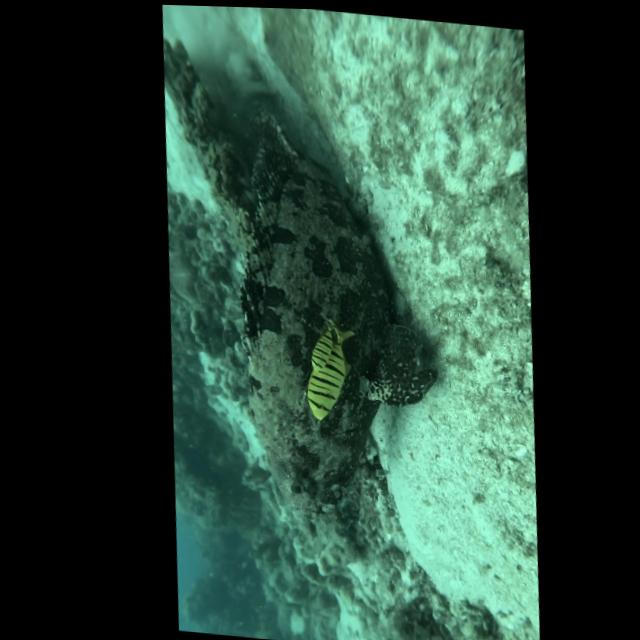Groupers: (206, 116, 466, 532)
